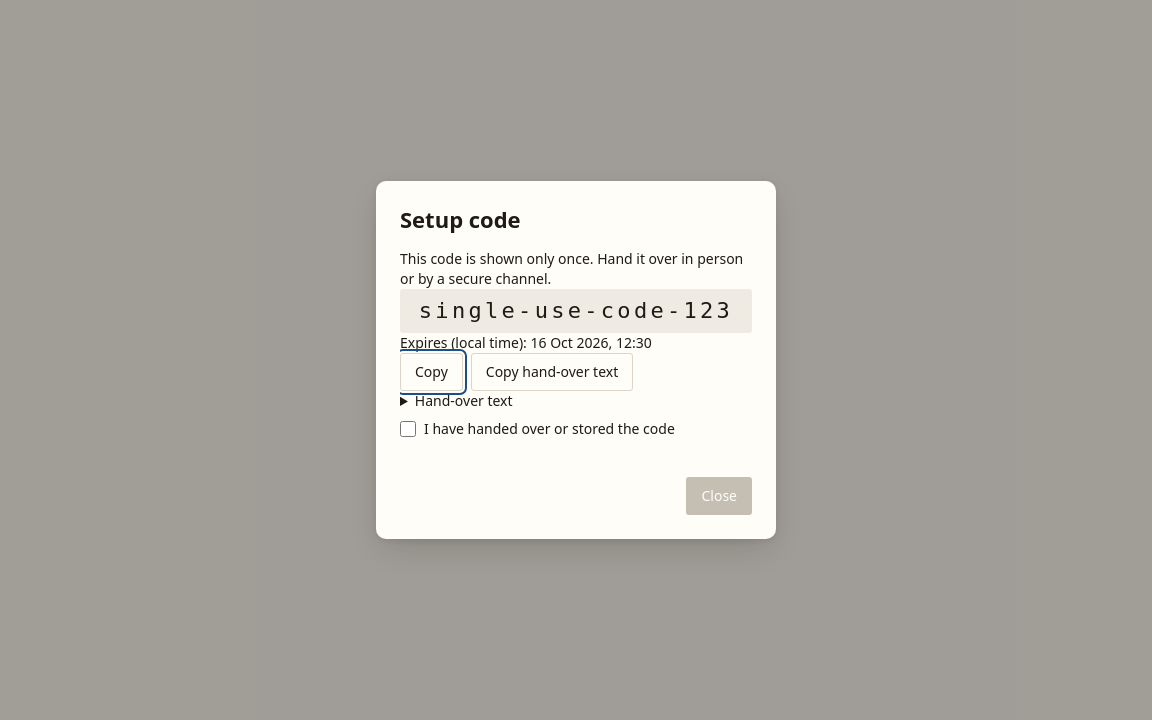
it: one-time code dialog › keeps the code with a useful message when clipboard copying fails, and permits retry
Click the button "Copy" at point(431, 372), box [400, 353, 463, 391]
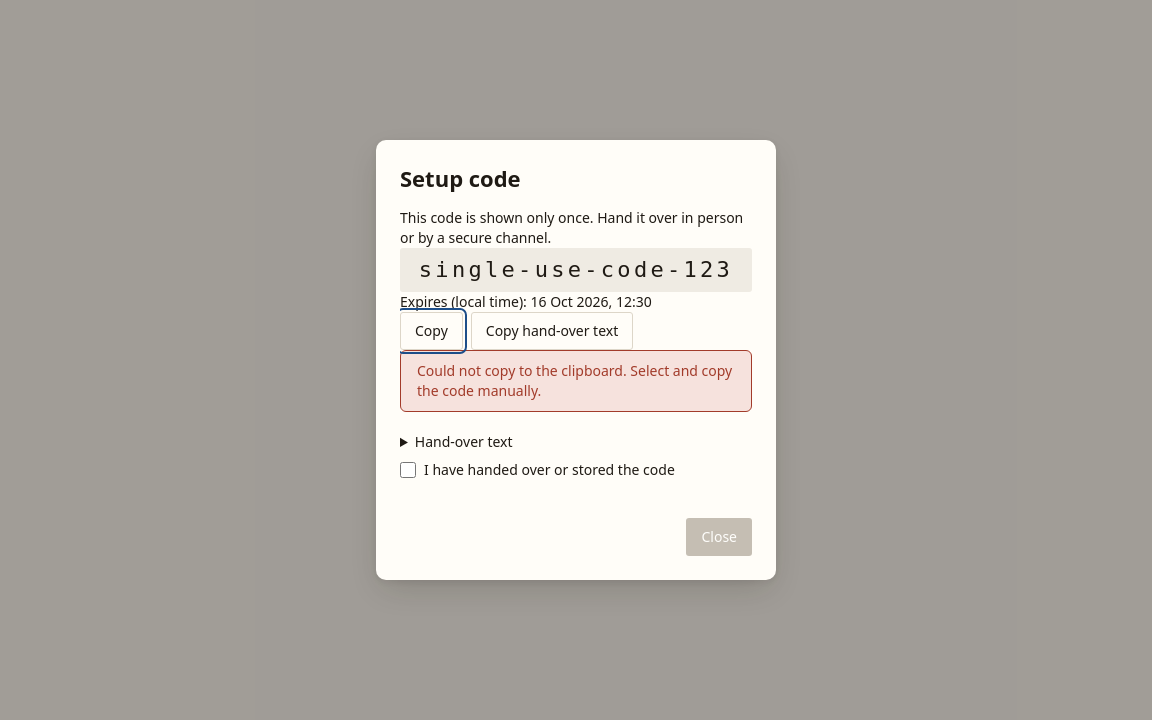
Expected: the text "single-use-code-123" is shown, [400, 248, 752, 292]
Result: the message shows "copy the code manually" at [417, 361, 732, 400]
Click the button "Copy" at point(431, 331), box [400, 312, 463, 350]
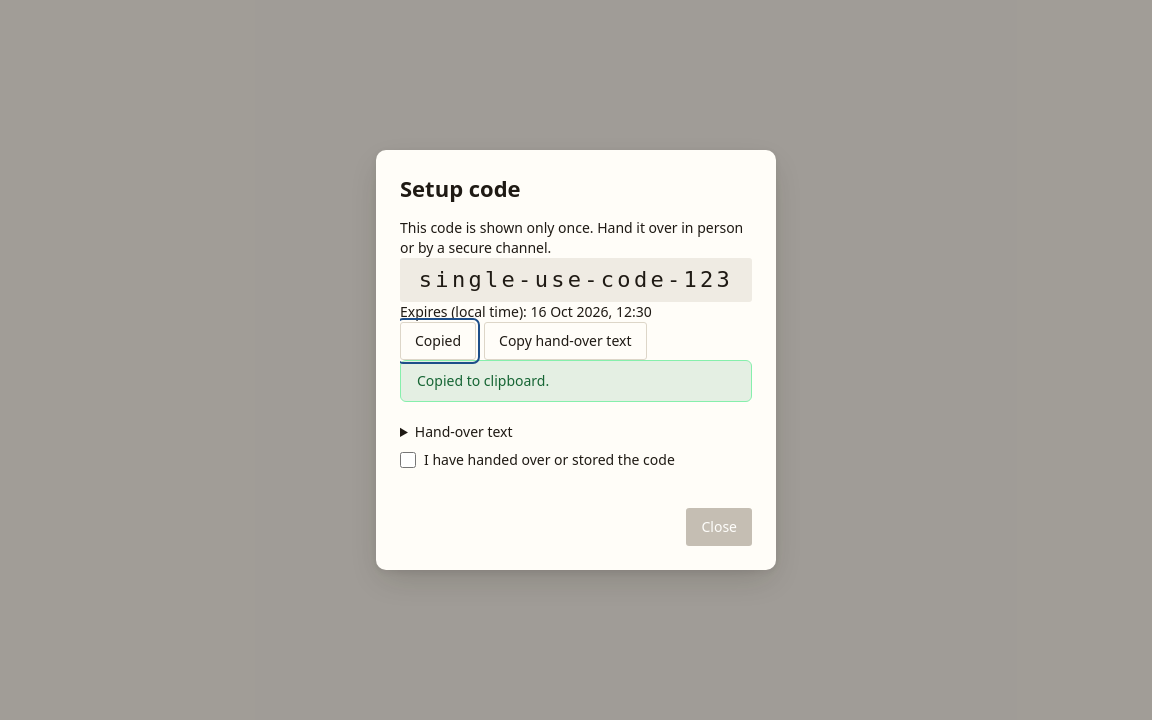
Result: the button "Copied" is shown at [400, 322, 476, 360]
